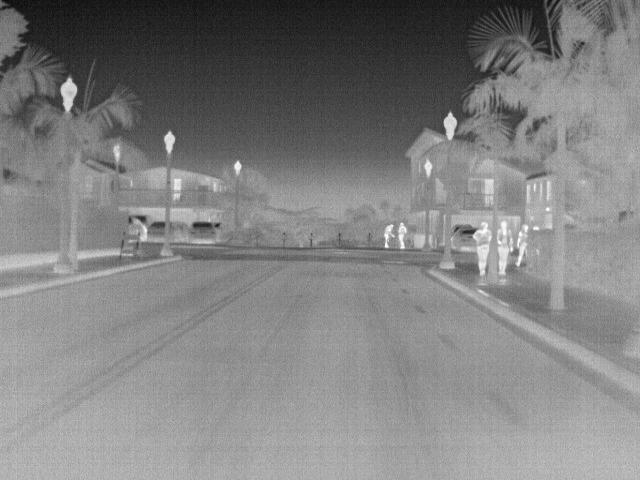car: (188, 221, 221, 243), (448, 225, 472, 252), (143, 220, 169, 239)
person: (474, 220, 491, 278), (497, 219, 512, 272), (515, 224, 529, 265), (381, 222, 396, 250), (397, 220, 409, 250)
